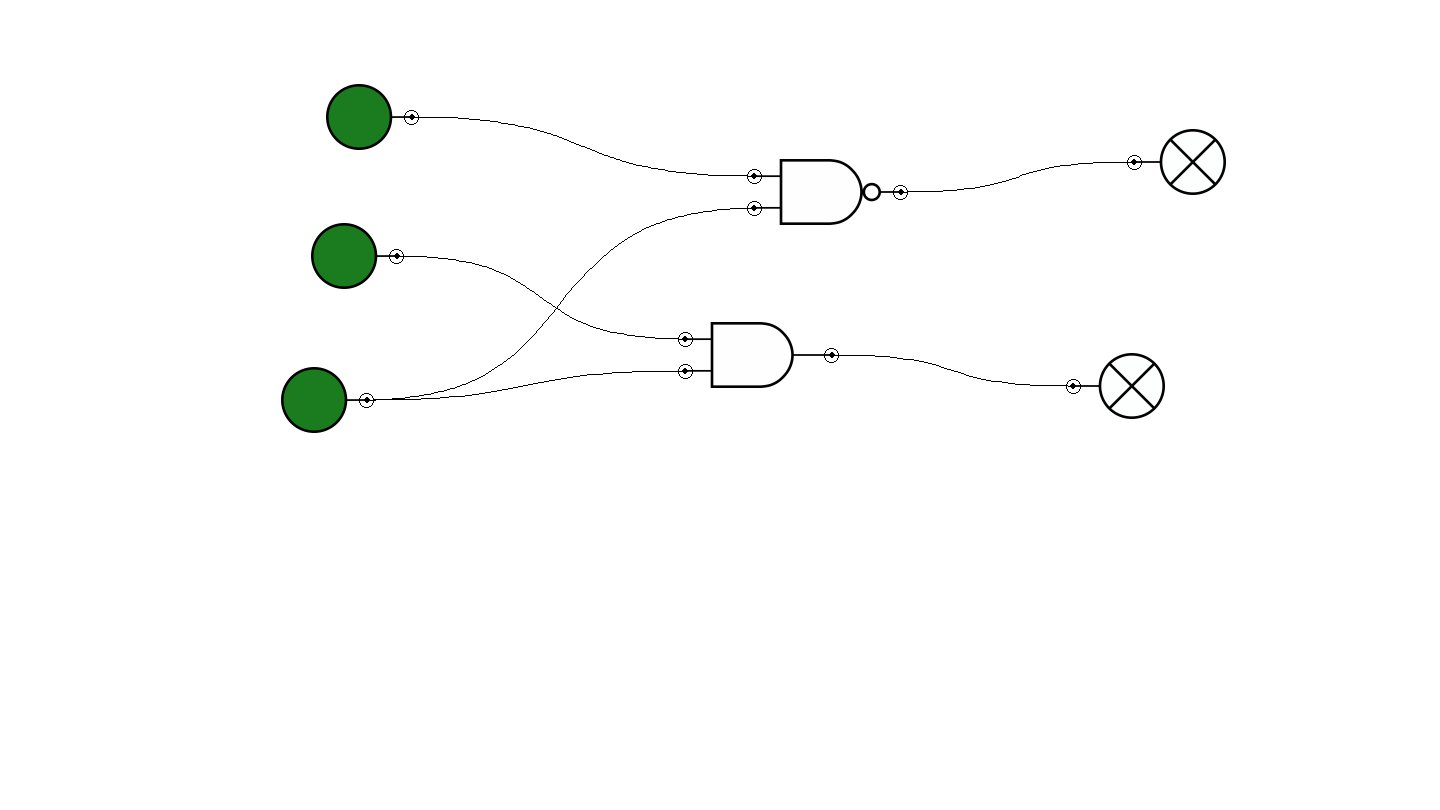and: (678, 322, 839, 388)
bulb: (1066, 353, 1165, 419), (1127, 129, 1226, 195)
nand: (747, 159, 908, 225)
switch_True: (281, 367, 374, 433), (311, 223, 404, 289), (326, 84, 419, 150)
